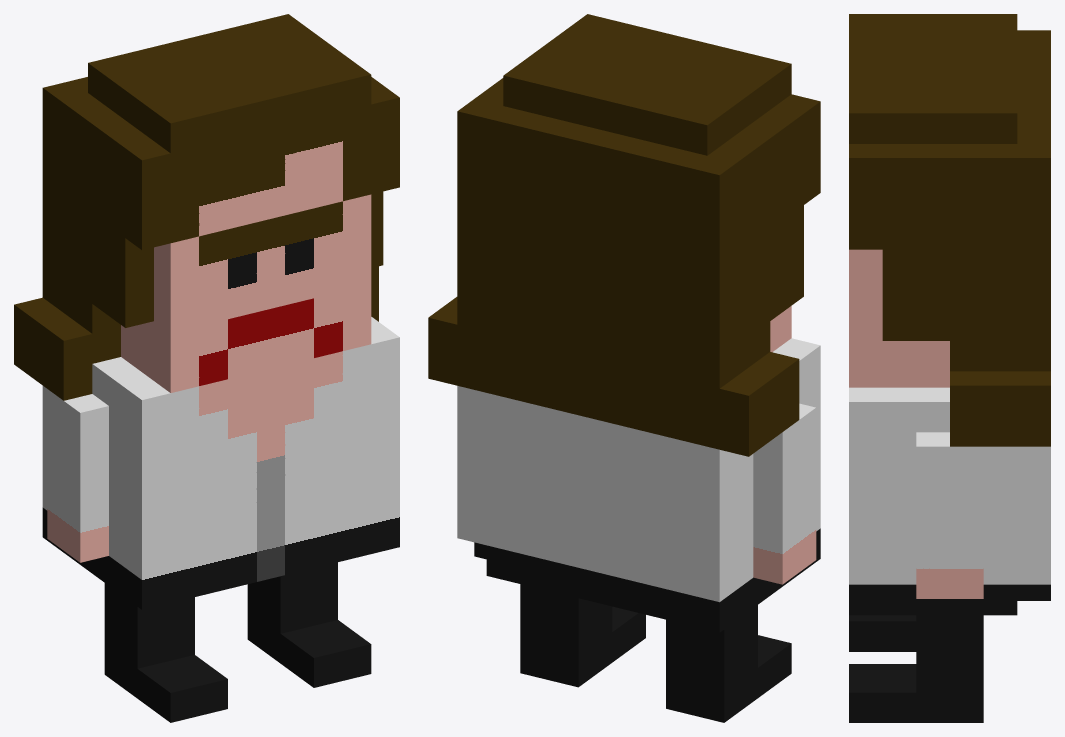
File: dt-bolivar.fbx
The picture shows the model from 3 angles, left to right: view 1: azimuth 30°, elevation 25°; view 2: azimuth 150°, elevation 25°; view 3: azimuth 270°, elevation 25°; orthographic projection.
Visible parts, largest first — view 1: _28; view 2: _28; view 3: _28.
Part boxes in pixels (box(x1,y1,x2,y2)): _28: box(14, 14, 399, 722); _28: box(428, 14, 820, 722); _28: box(849, 14, 1050, 722).
Bounding box in the file's own units: 11 × 20 × 6.
